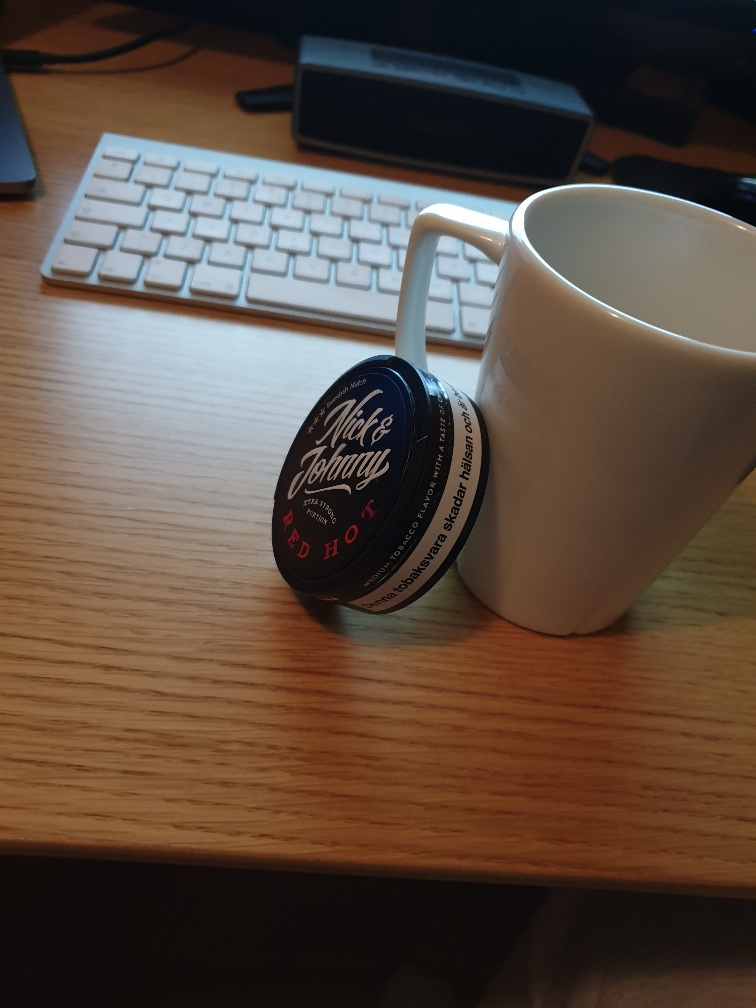snus: (252, 347, 496, 628)
